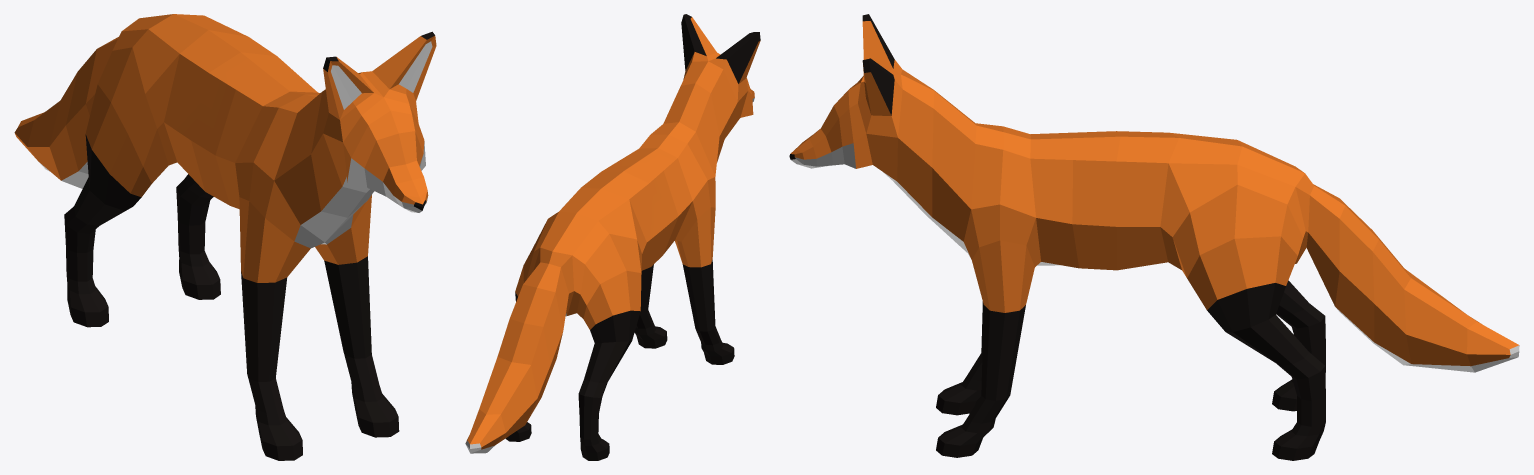
Rendered from fox_free_model.glb.
3 renders of one model, left to right at view 1: azimuth 30°, elevation 25°; view 2: azimuth 150°, elevation 25°; view 3: azimuth 270°, elevation 25°, orthographic. The views are drawn at different scales.
Visible parts, largest first — view 1: 01foxFinal; view 2: 01foxFinal; view 3: 01foxFinal.
Part boxes in pixels (x1,y1,x2,y2): 01foxFinal: (14, 14, 436, 460); 01foxFinal: (465, 14, 760, 460); 01foxFinal: (789, 14, 1519, 460).
Size of the model in its own units: 0.4362 by 1.13 by 1.91.
Materials: 1 (1 with a texture image).
